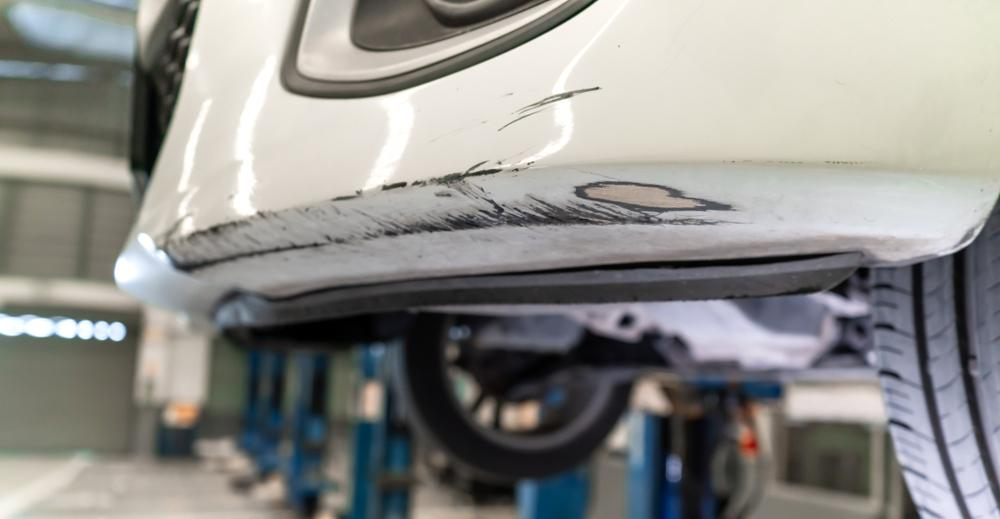scratch: (145, 81, 763, 279)
